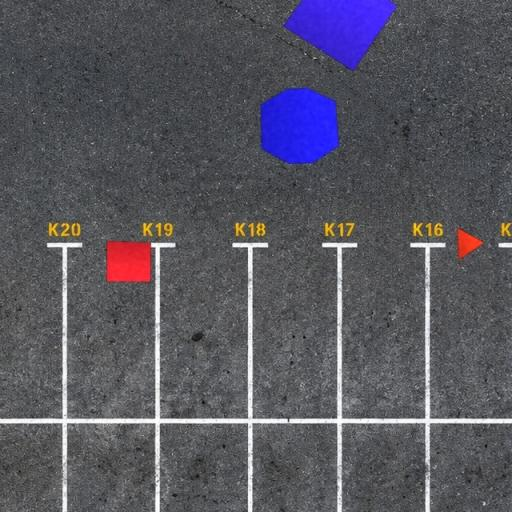BLUE_SQUARE: (282, 0, 398, 72)
RED_SQUARE: (106, 240, 152, 283)
